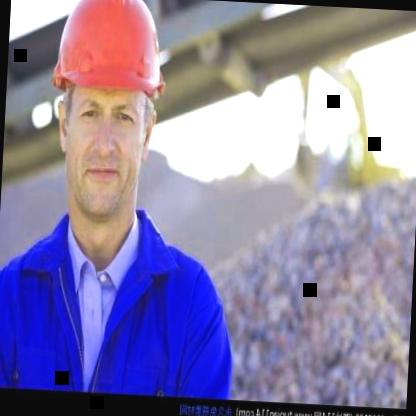helmet: (34, 0, 178, 249)
